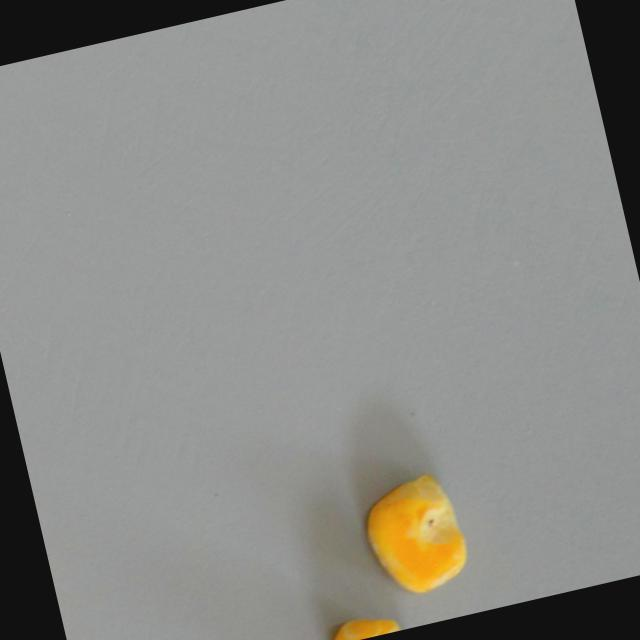pelicula: (322, 604, 419, 640)
punto_negro: (354, 465, 475, 603)
